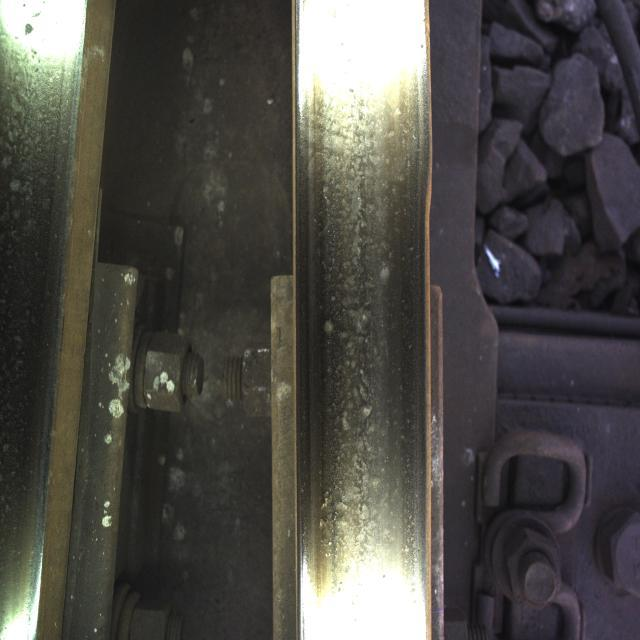scar: (315, 70, 419, 575)
